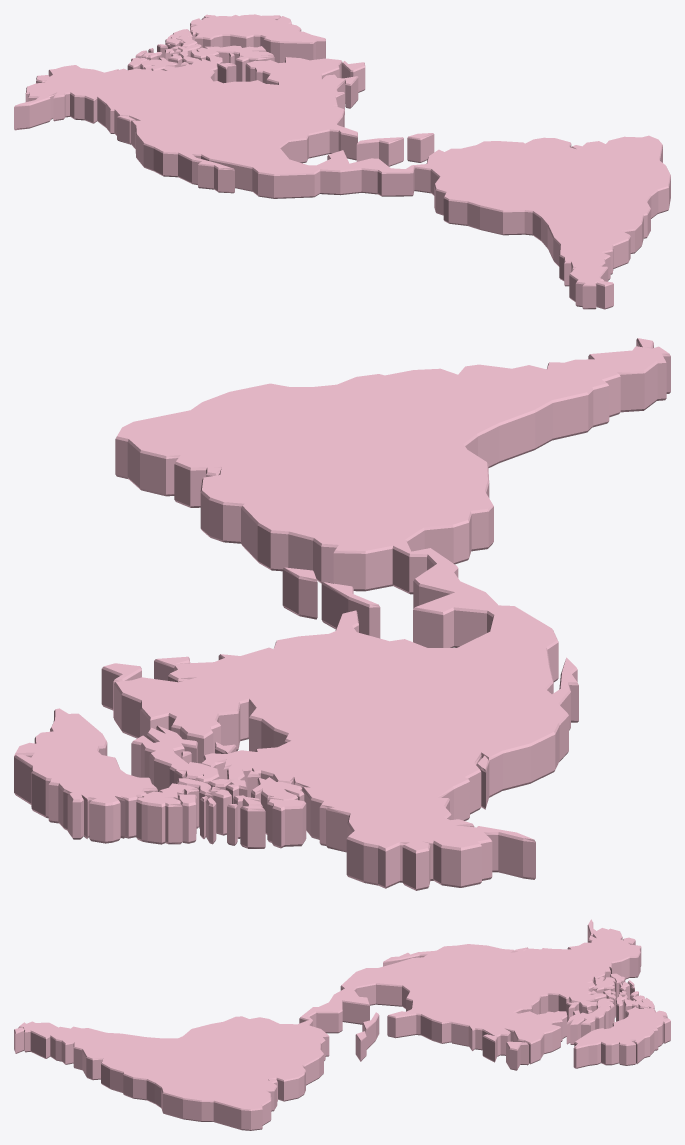
Rendered from america.glb.
3 views of the same model, one above another, from view 1: azimuth 30°, elevation 25°; view 2: azimuth 150°, elevation 25°; view 3: azimuth 270°, elevation 25° (orthographic). The views are drawn at different scales.
Size of the model in its own units: 1.3 by 0.068 by 1.88.
